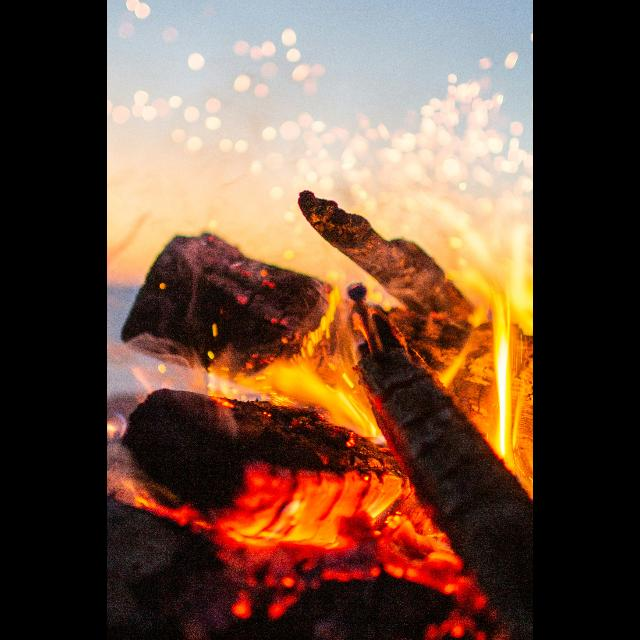fire: (361, 315, 534, 640), (389, 308, 496, 440)
